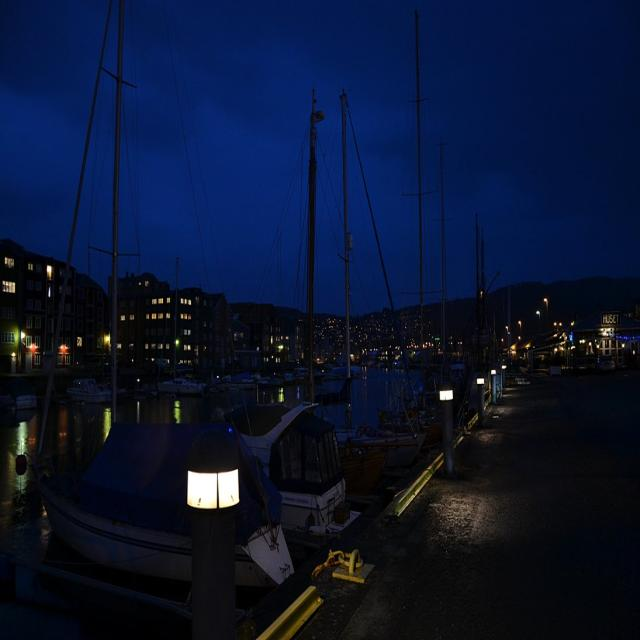Boat: (42, 27, 258, 600), (308, 88, 421, 511), (222, 280, 353, 532), (412, 102, 501, 407)
